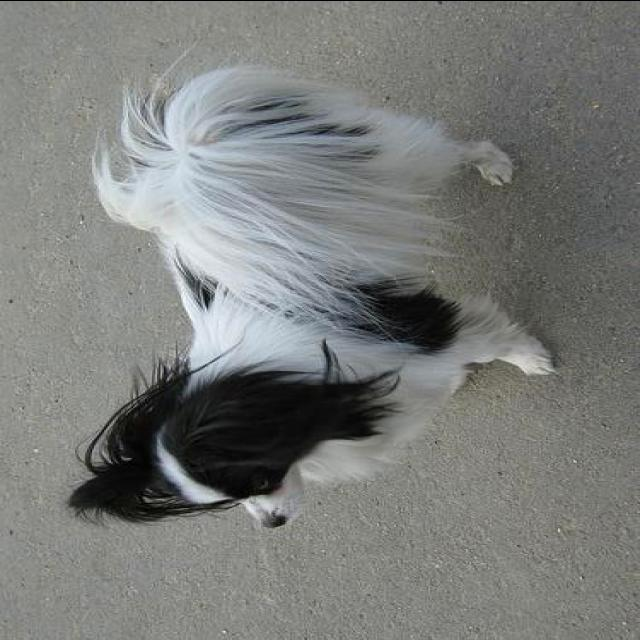papillon: (62, 60, 560, 530)
